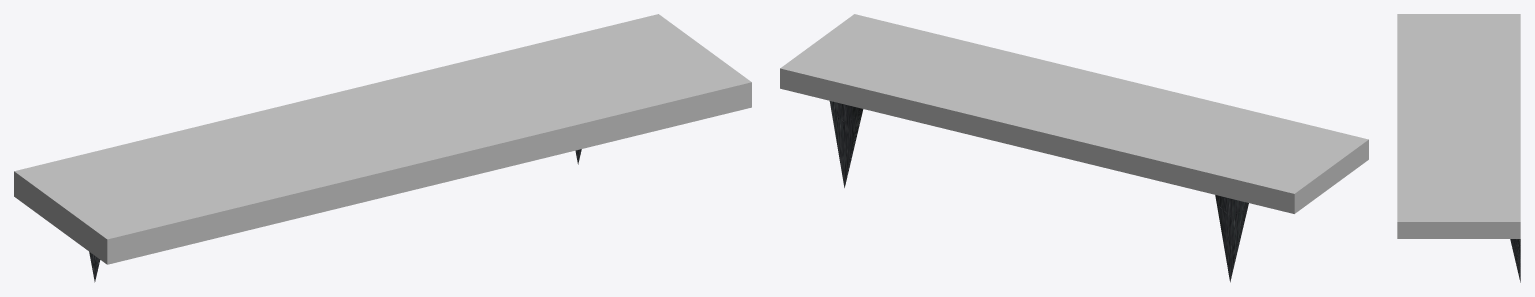
File: small shelf.fbx
The picture shows the model from 3 angles, left to right: view 1: azimuth 30°, elevation 25°; view 2: azimuth 150°, elevation 25°; view 3: azimuth 270°, elevation 25°; orthographic projection. The views are drawn at different scales.
Visible parts, largest first — view 1: Cube; view 2: Cube, Cone; view 3: Cube, Cone.
Part boxes in pixels (box(x1,y1,x2,y2)): Cube: box(14, 14, 751, 264); Cube: box(780, 14, 1368, 213); Cone: box(829, 101, 1248, 282); Cube: box(1397, 14, 1520, 238); Cone: box(1510, 239, 1520, 282).
Bounding box in the file's own units: 798 × 155 × 200.
